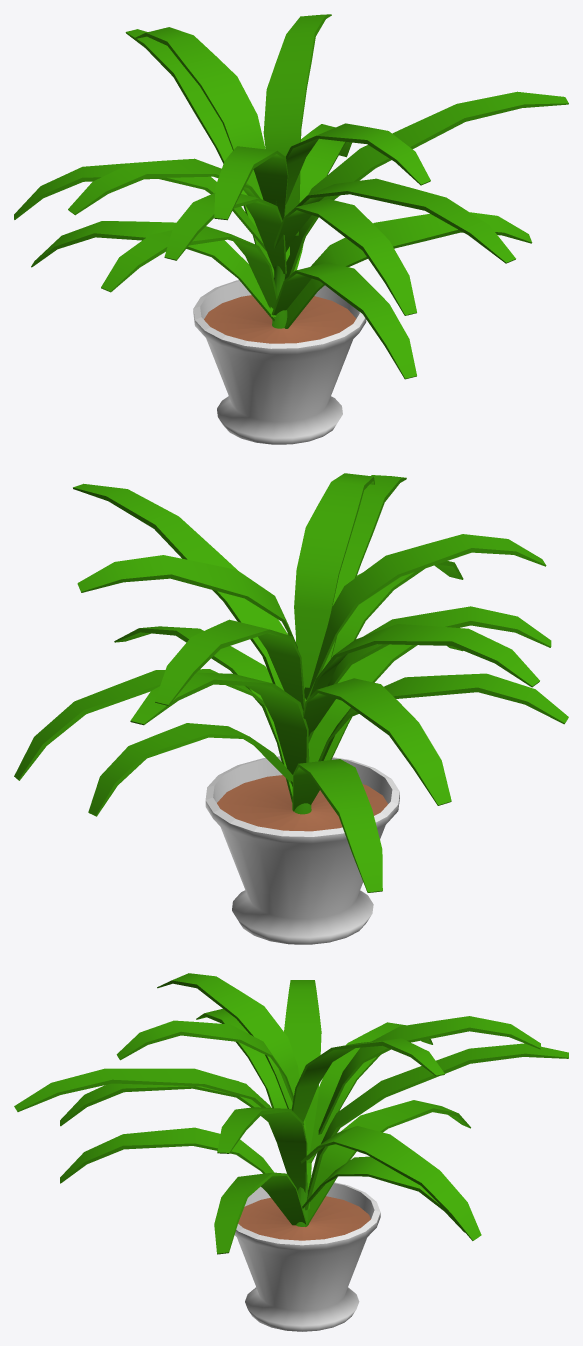
Rendered from SM_decor_plant1.fbx.
3 views of the same model, one above another, from view 1: azimuth 30°, elevation 25°; view 2: azimuth 150°, elevation 25°; view 3: azimuth 270°, elevation 25° (orthographic). The views are drawn at different scales.
Visible parts, largest first — view 1: pCube18, pCylinder1; view 2: pCube18, pCylinder1; view 3: pCube18, pCylinder1.
Boxes of the visible parts, x1,y1,x2,y2 form: pCube18: (14,14,568,379); pCylinder1: (193,265,366,444); pCube18: (14,473,568,892); pCylinder1: (205,749,399,944); pCube18: (14,973,568,1254); pCylinder1: (234,1169,380,1331).
Bounding box in the file's own units: 19.38 × 13.71 × 22.76.
